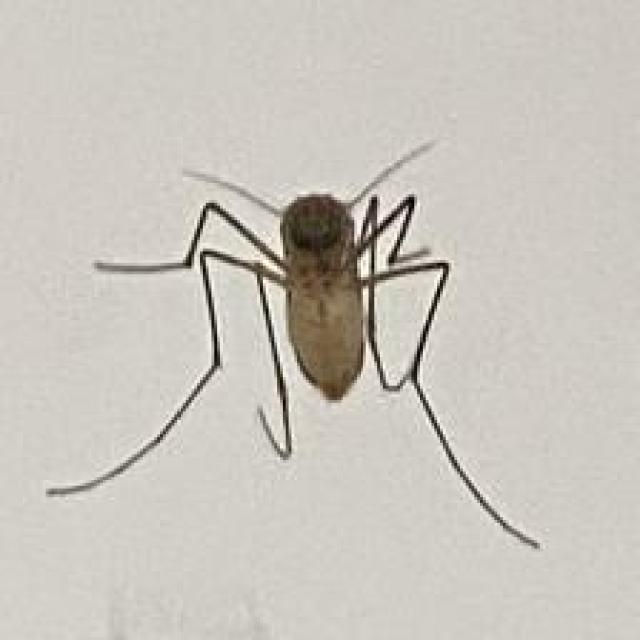Culex: (44, 136, 544, 550)
